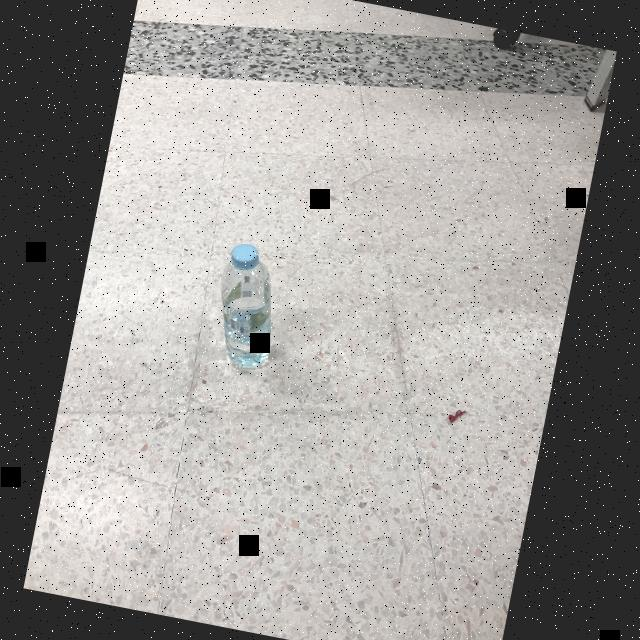plastic_bottle: (203, 239, 291, 377)
